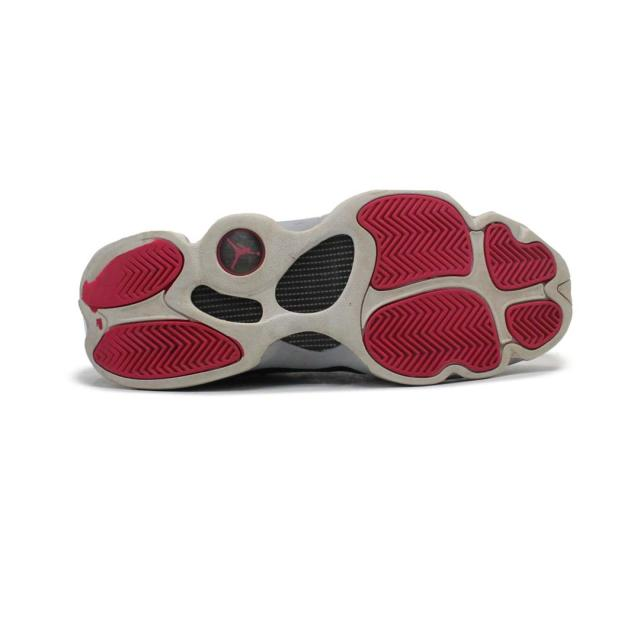outersole: (78, 186, 574, 386)
